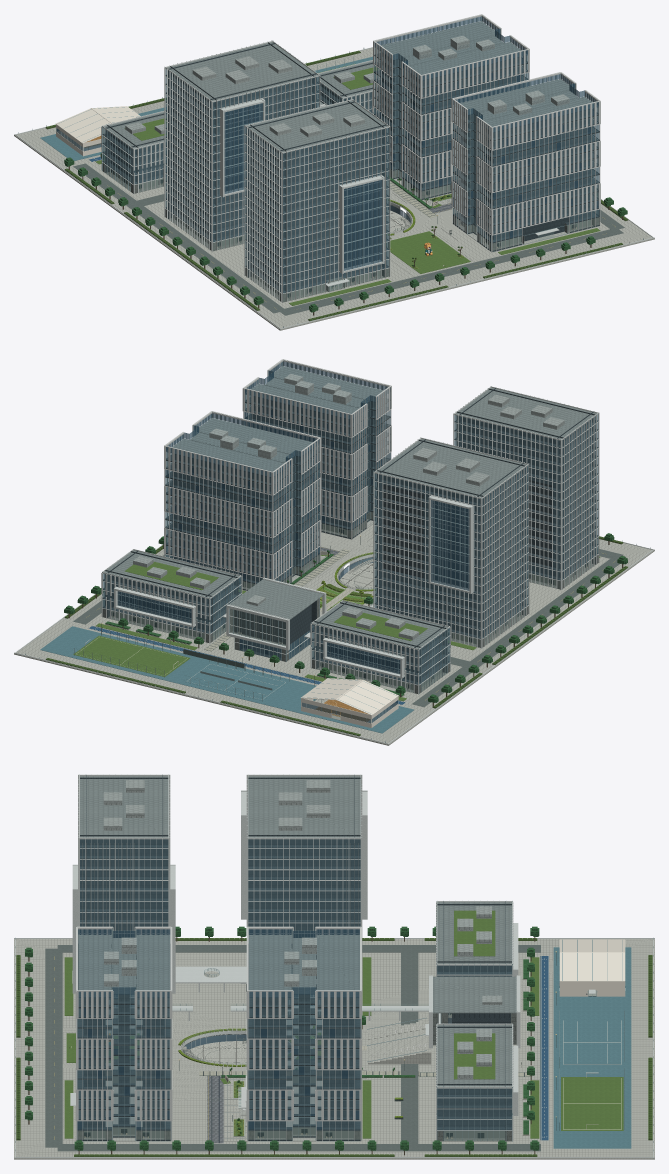
File: HKU-Shanghai-Campus.glb
The picture shows the model from 3 angles, top to bottom: view 1: azimuth 30°, elevation 25°; view 2: azimuth 150°, elevation 25°; view 3: azimuth 270°, elevation 25°; orthographic projection. The views are drawn at different scales.
Visible parts, largest first — view 1: 03_Columns_and_Frames__Silver facade fins (×2), Glass_plane__Glazing_office (×6), 03_Columns_and_Fins__Warm silver aluminium (×2), Glazing_and_grid__Opaque structural core (×6), Perforated_site_paving, 01_MainBody__Opaque facade backing (×2), Roof (×4), Entrance_elevation_Glass_plane__Glazing_office (×2), 07_Roof__Roof membrane (×2), Scenic_facade_recess__Opaque structural core (×4), Reflective_feature_glass (×2), Glazing_and_grid__Silver facade fins (×4) (+27 smaller); view 2: 03_Columns_and_Frames__Silver facade fins (×2), Glass_plane__Glazing_office (×8), 03_Columns_and_Fins__Warm silver aluminium (×2), Glazing_and_grid__Opaque structural core (×8), Perforated_site_paving, Roof (×4), 01_MainBody__Opaque facade backing (×2), Rear_elevation_PROVISIONAL_Glass_plane__Glazing_office (×2), Scenic_facade_recess__Opaque structural core (×4), Sports__Jogging surface, 07_Roof__Roof membrane (×2), Reflective_feature_glass (×3) (+33 smaller); view 3: Perforated_site_paving, Glass_plane__Glazing_office (×4), Roof (×4), 03_Columns_and_Fins__Warm silver aluminium (×2), Tower_core (×2), 07_Roof__Roof membrane (×2), 01_MainBody__Opaque facade backing (×2), Sports__Jogging surface, 03_Columns_and_Frames__Silver facade fins (×2), Side_1_wing_-1_Glass_plane__Glazing_office (×2), Side_1_wing_1_Glass_plane__Glazing_office (×2), Glazing_and_grid__Opaque structural core (×3) (+45 smaller).
Boxes of the visible parts, x1=… form: 03_Columns_and_Frames__Silver facade fins (×2): x1=164, y1=40, x2=390, y2=302; Glass_plane__Glazing_office (×6): x1=103, y1=69, x2=388, y2=292; 03_Columns_and_Fins__Warm silver aluminium (×2): x1=373, y1=17, x2=600, y2=251; Glazing_and_grid__Opaque structural core (×6): x1=165, y1=43, x2=389, y2=293; Perforated_site_paving: x1=14, y1=48, x2=654, y2=330; 01_MainBody__Opaque facade backing (×2): x1=382, y1=53, x2=591, y2=241; Roof (×4): x1=104, y1=42, x2=387, y2=152; Entrance_elevation_Glass_plane__Glazing_office (×2): x1=422, y1=55, x2=598, y2=241; 07_Roof__Roof membrane (×2): x1=377, y1=21, x2=597, y2=131; Scenic_facade_recess__Opaque structural core (×4): x1=168, y1=77, x2=387, y2=292; Reflective_feature_glass (×2): x1=224, y1=103, x2=382, y2=270; Glazing_and_grid__Silver facade fins (×4): x1=165, y1=76, x2=389, y2=293; 03_Columns_and_Frames__Silver facade fins (×2): x1=373, y1=386, x2=599, y2=648; Glass_plane__Glazing_office (×8): x1=103, y1=415, x2=597, y2=684; 03_Columns_and_Fins__Warm silver aluminium (×2): x1=164, y1=362, x2=391, y2=590; Glazing_and_grid__Opaque structural core (×8): x1=103, y1=388, x2=598, y2=684; Perforated_site_paving: x1=14, y1=522, x2=654, y2=745; Roof (×4): x1=104, y1=387, x2=596, y2=648; 01_MainBody__Opaque facade backing (×2): x1=172, y1=396, x2=382, y2=581; Rear_elevation_PROVISIONAL_Glass_plane__Glazing_office (×2): x1=165, y1=395, x2=350, y2=583; Scenic_facade_recess__Opaque structural core (×4): x1=376, y1=422, x2=595, y2=637; Sports__Jogging surface: x1=40, y1=626, x2=414, y2=733; 07_Roof__Roof membrane (×2): x1=167, y1=366, x2=383, y2=476; Reflective_feature_glass (×3): x1=117, y1=500, x2=469, y2=674; Perforated_site_paving: x1=14, y1=939, x2=654, y2=1159; Glass_plane__Glazing_office (×4): x1=80, y1=839, x2=511, y2=1129; Roof (×4): x1=80, y1=776, x2=511, y2=1086; 03_Columns_and_Fins__Warm silver aluminium (×2): x1=76, y1=927, x2=361, y2=1141; Tower_core (×2): x1=86, y1=839, x2=353, y2=1003; 07_Roof__Roof membrane (×2): x1=78, y1=935, x2=359, y2=997; 01_MainBody__Opaque facade backing (×2): x1=84, y1=994, x2=354, y2=1127; Sports__Jogging surface: x1=553, y1=947, x2=631, y2=1148; 03_Columns_and_Frames__Silver facade fins (×2): x1=72, y1=774, x2=367, y2=1017; Side_1_wing_-1_Glass_plane__Glazing_office (×2): x1=136, y1=998, x2=360, y2=1129; Side_1_wing_1_Glass_plane__Glazing_office (×2): x1=78, y1=998, x2=291, y2=1129; Glazing_and_grid__Opaque structural core (×3): x1=80, y1=835, x2=511, y2=1130.
Size of the model in its own units: 208 by 85.6 by 256.
457 materials, 317 textured.
